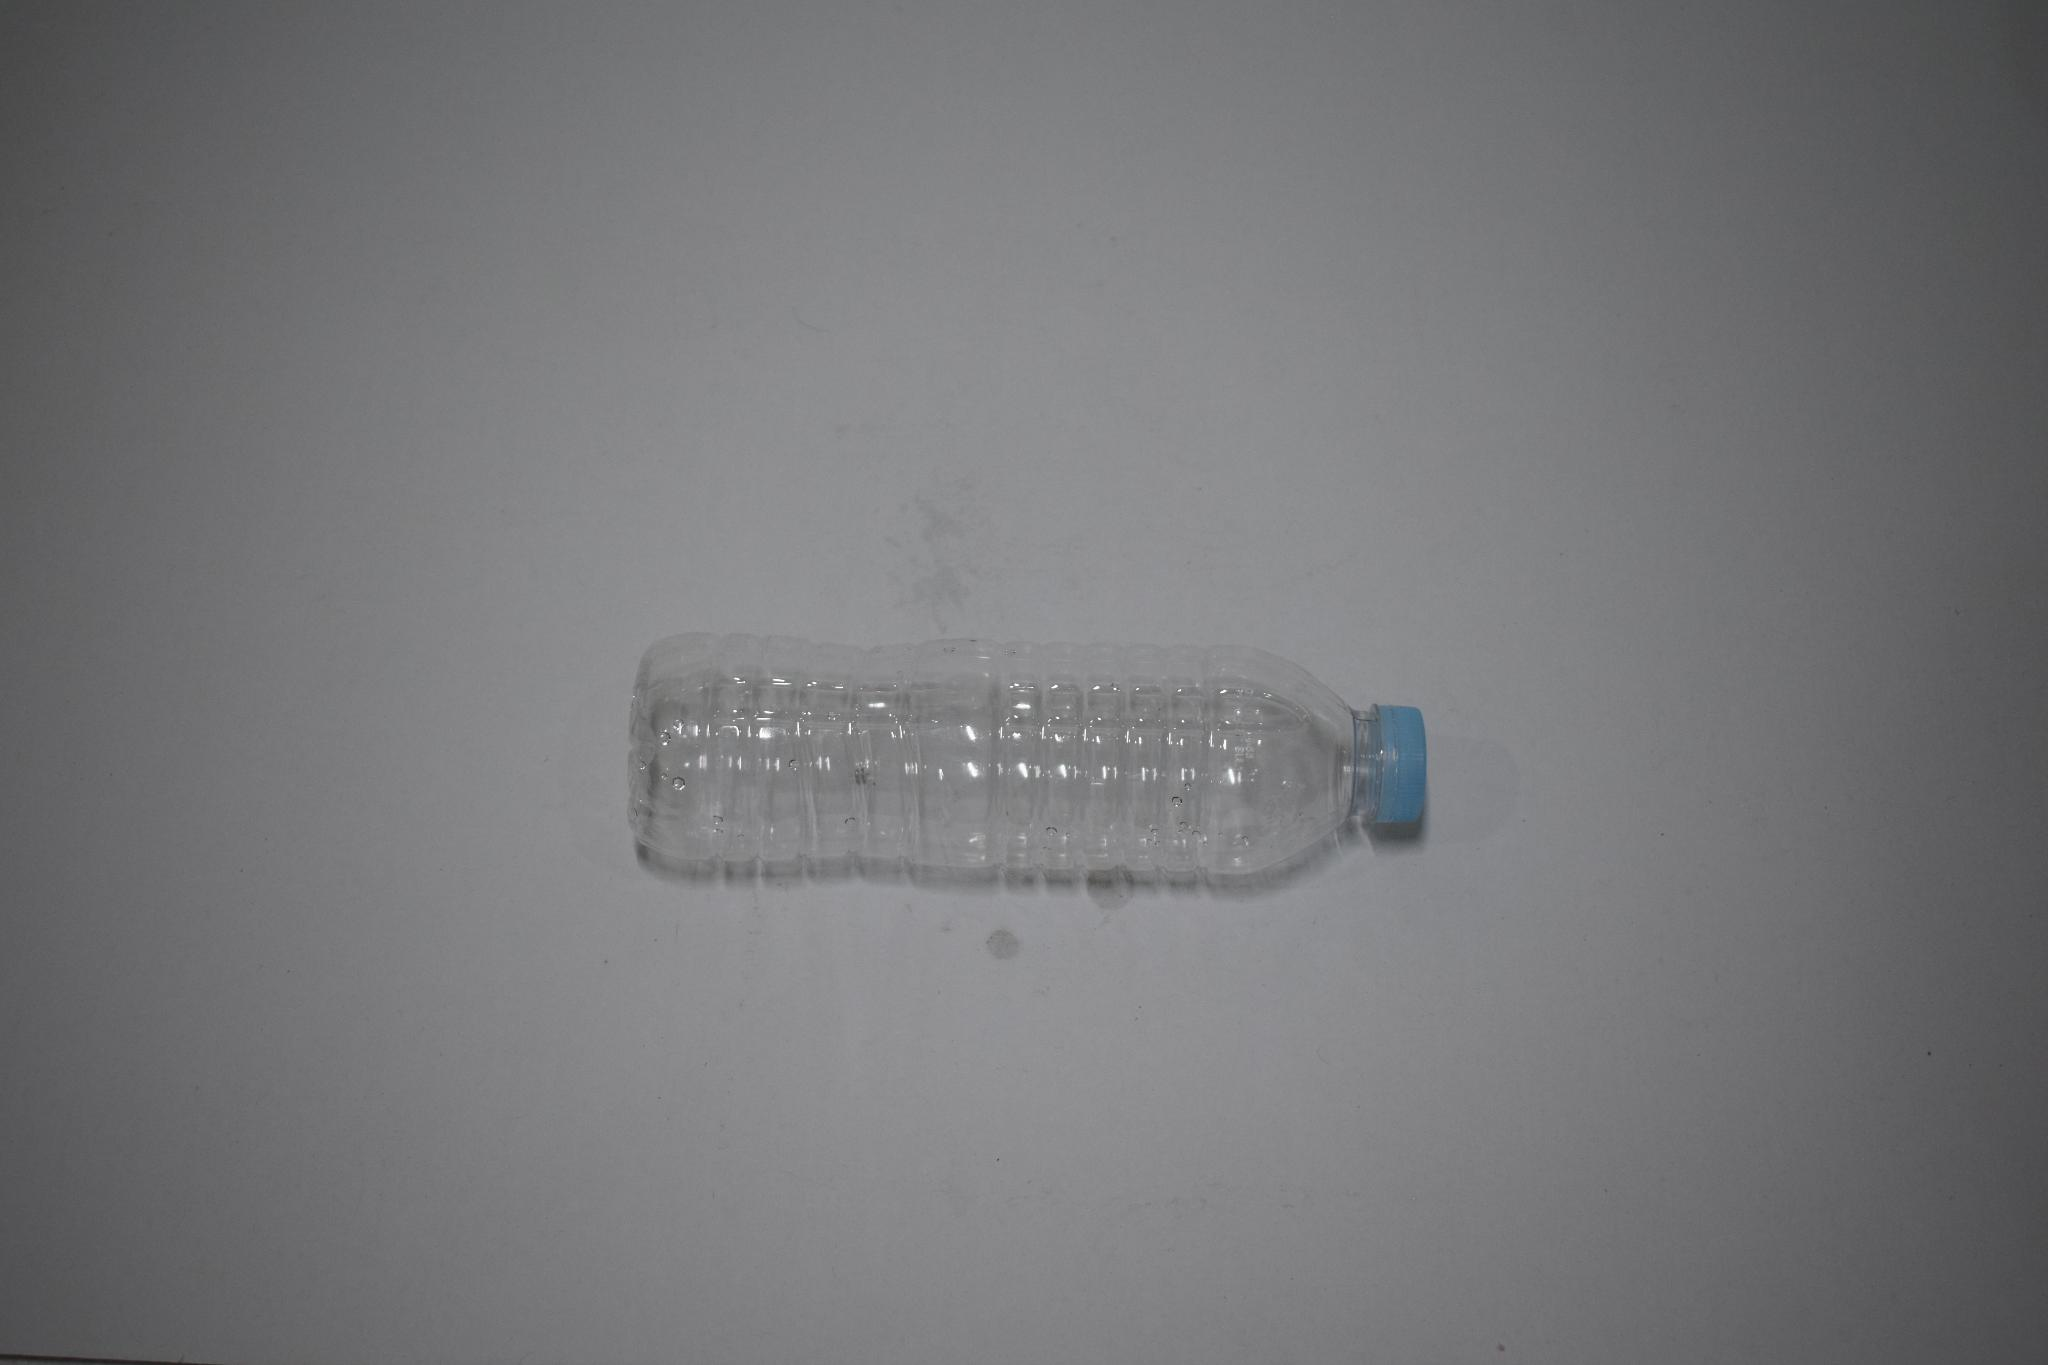bottle: (606, 614, 1480, 914)
